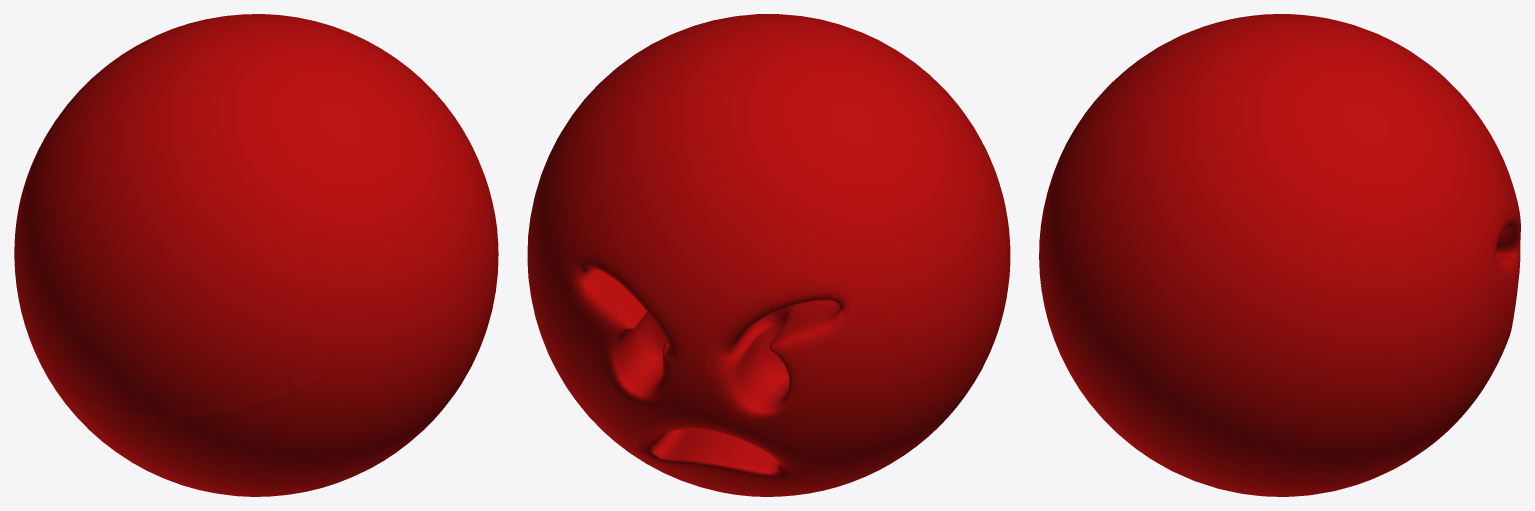
File: rage 3DS.fbx
The picture shows the model from 3 angles, left to right: view 1: azimuth 30°, elevation 25°; view 2: azimuth 150°, elevation 25°; view 3: azimuth 270°, elevation 25°; orthographic projection.
Parts seen in each view (by area): view 1: Group38430; view 2: Group38430; view 3: Group38430.
Boxes of the visible parts, x1,y1,x2,y2 form: Group38430: (14, 14, 498, 496); Group38430: (527, 14, 1010, 496); Group38430: (1039, 14, 1520, 496).
Bounding box in the file's own units: 51.89 × 51.83 × 51.72.
